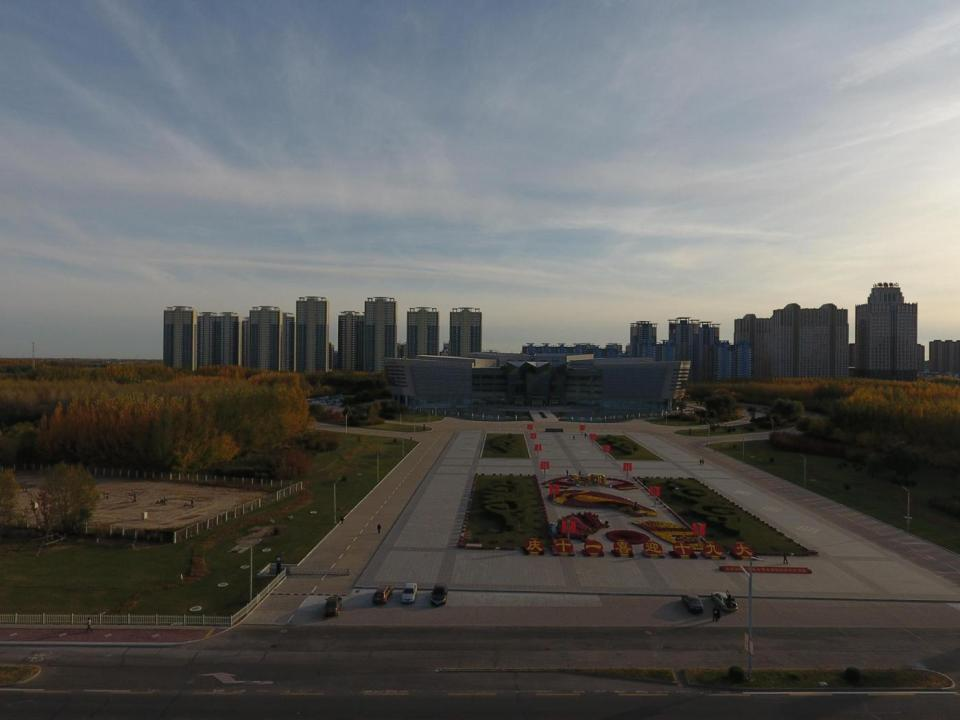car: (710, 590, 738, 612), (322, 594, 343, 618), (430, 581, 449, 607), (681, 593, 704, 614), (372, 585, 395, 605), (400, 582, 418, 604)
